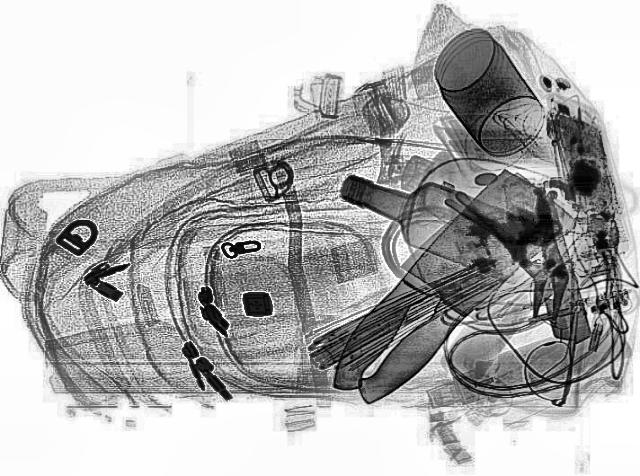Knife: (288, 164, 590, 410), (300, 166, 590, 414)
